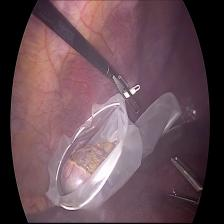Grasper: (160, 149, 202, 215), (113, 66, 142, 117)
Specimen Bag: (40, 82, 188, 224)
